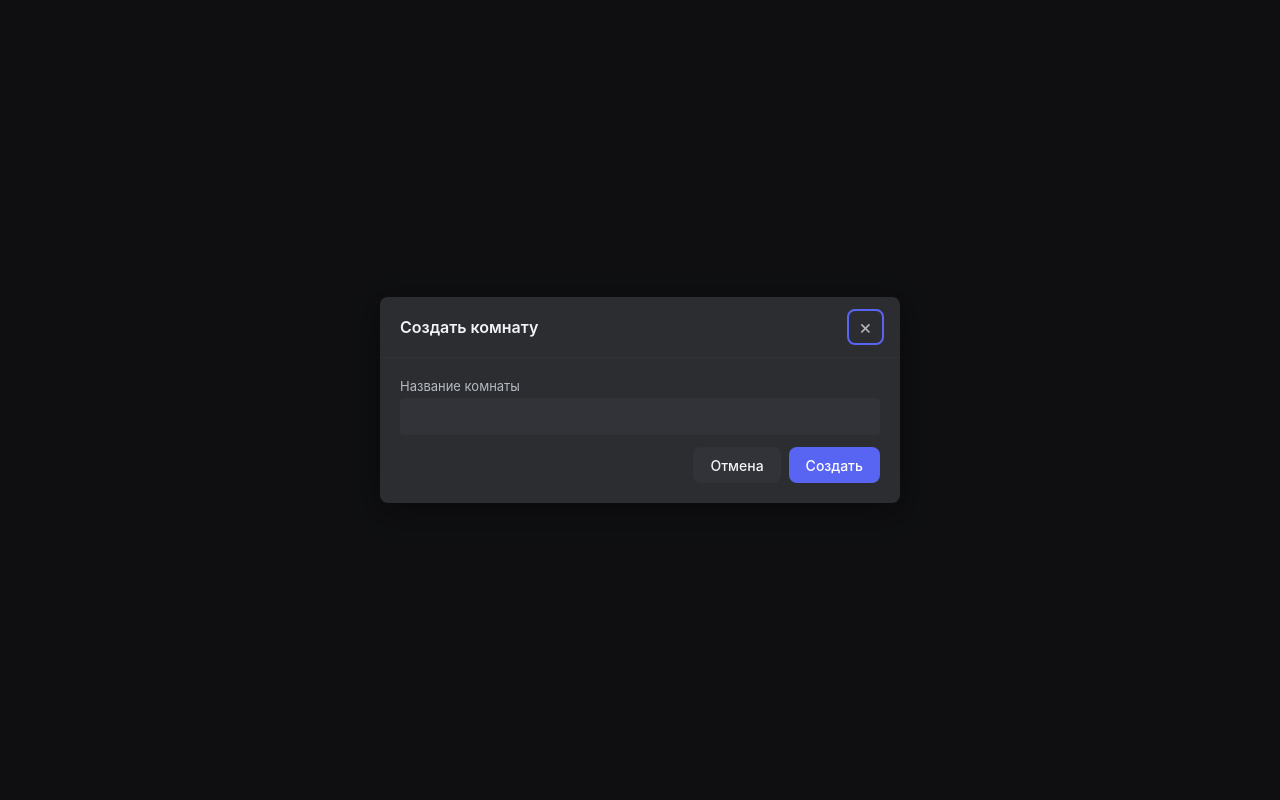
Test: <CreateRoomModal /> › zod-валидация: пустое имя → inline error
Click the button "Создать" at (834, 465), box [789,447,880,483]
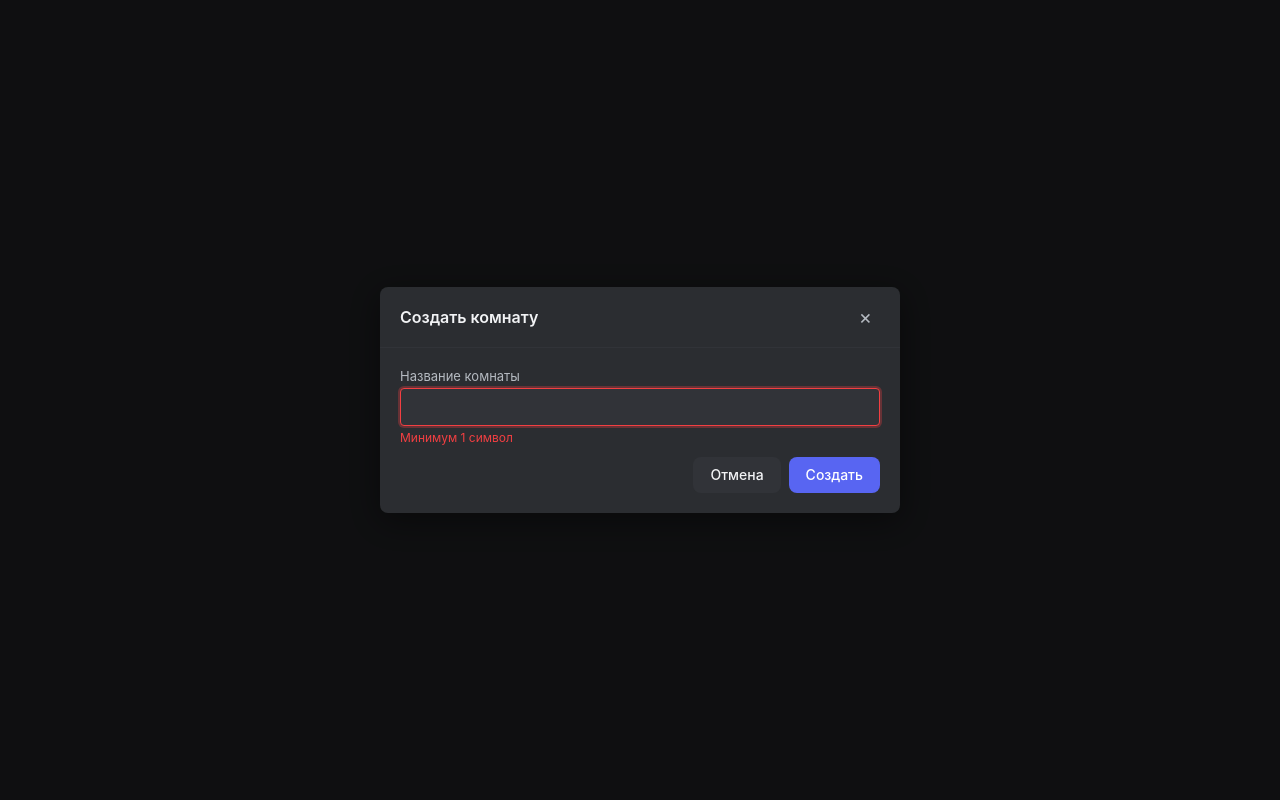
Result: the text "Минимум 1 символ" is shown at [400,430,513,445]
